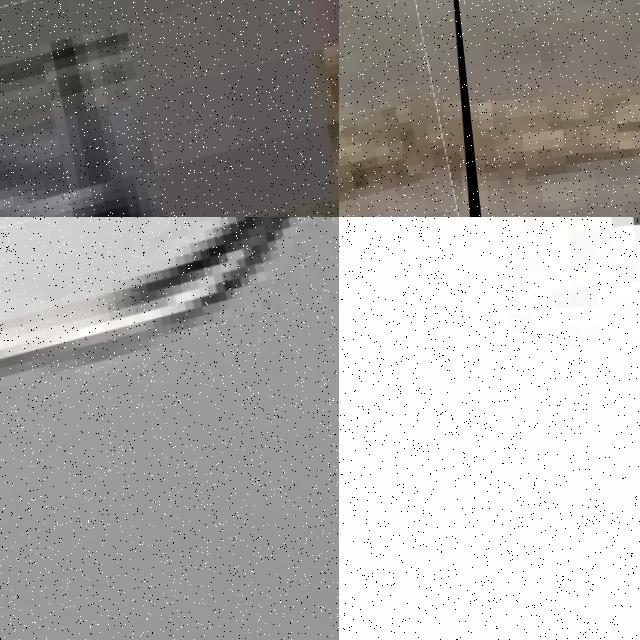drone: (0, 217, 339, 640), (0, 0, 339, 217), (339, 0, 508, 217)
